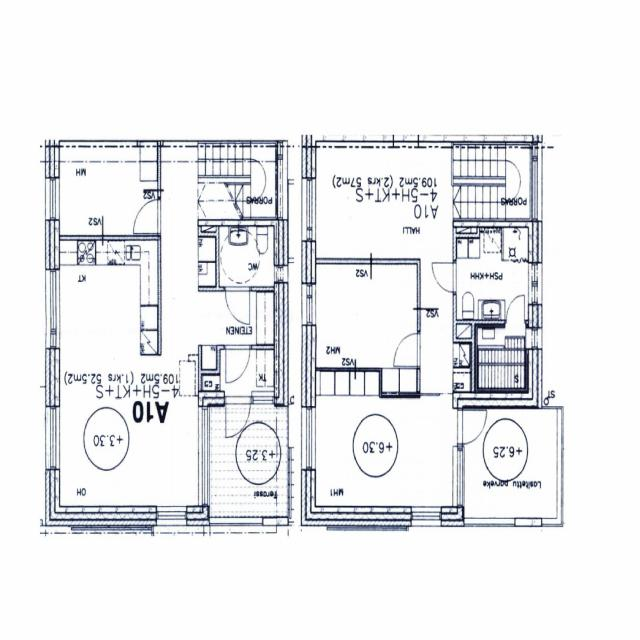door: (452, 411, 490, 445), (225, 391, 250, 441), (133, 200, 162, 232), (225, 287, 249, 324), (226, 345, 250, 382), (394, 334, 421, 366), (431, 262, 456, 292), (507, 294, 525, 328)
